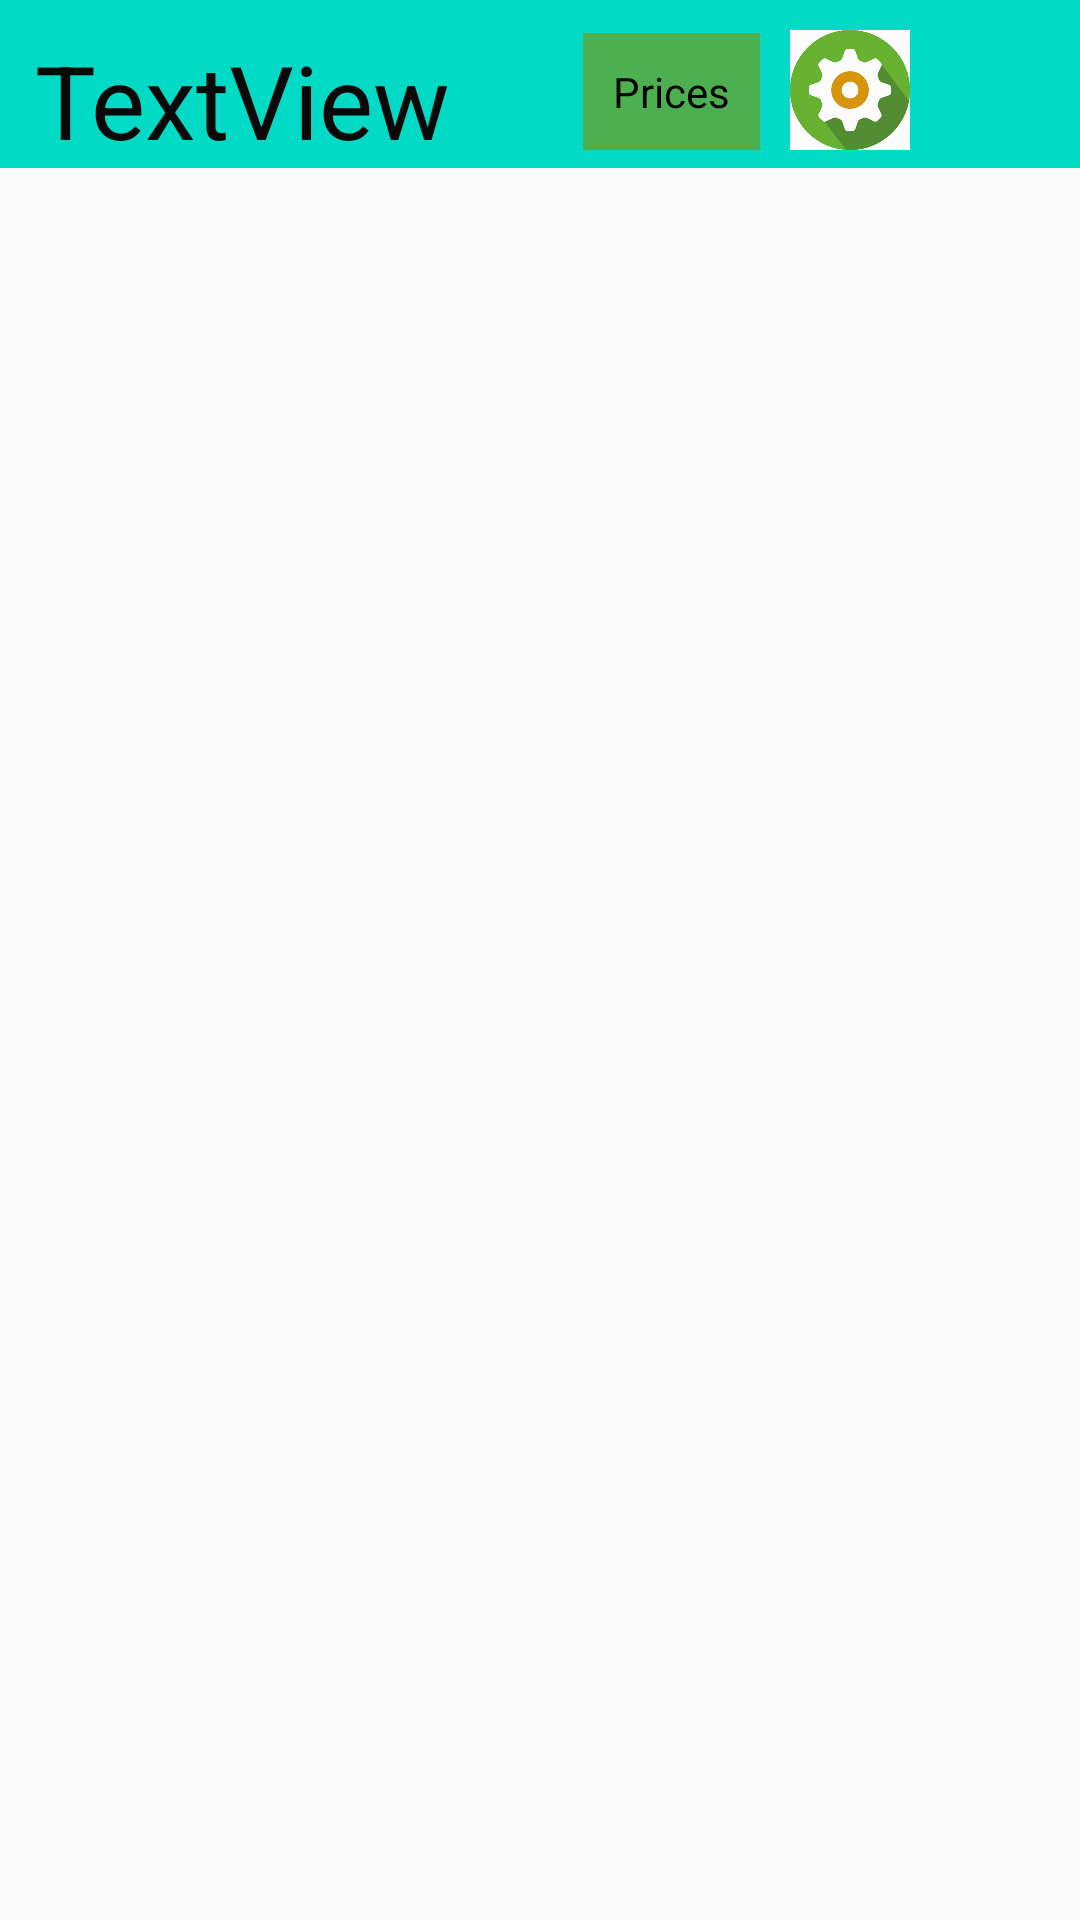

Where icons sit on this 1080w x 1920h app screen, as (x1, y1, x2, y2):
settings: (790, 30, 910, 150)
